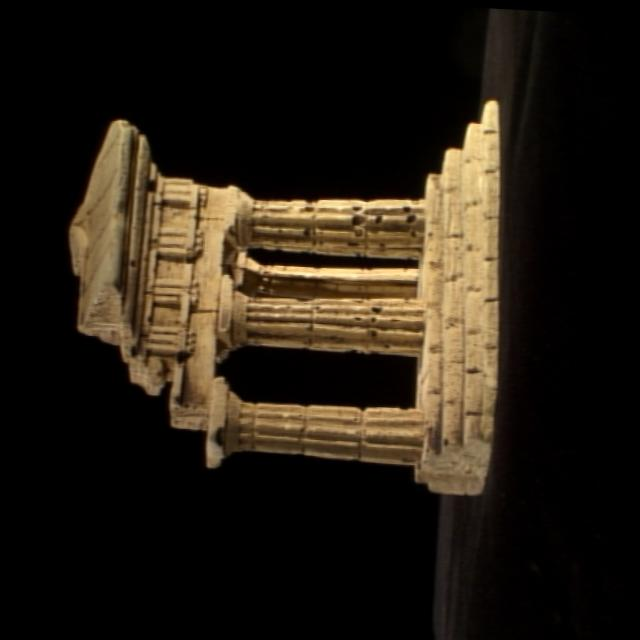Instance-Segmentation: (70, 100, 500, 495)
